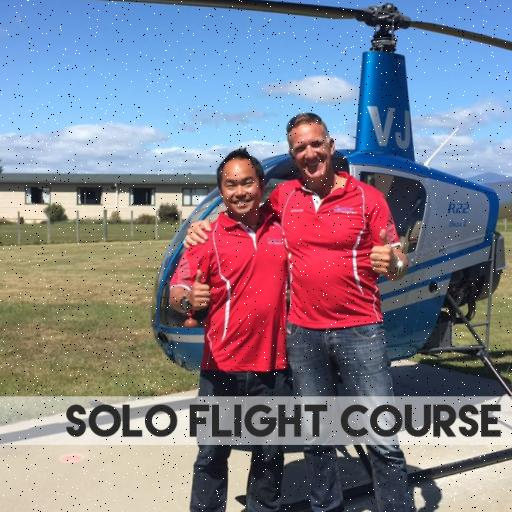helicopter: (1, 1, 512, 509)
